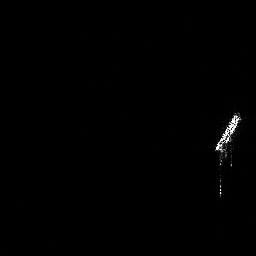ship: (211, 106, 245, 171)
